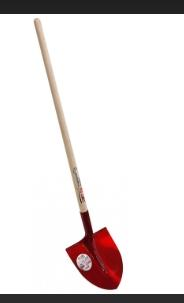PELLE: (0, 11, 127, 298)
